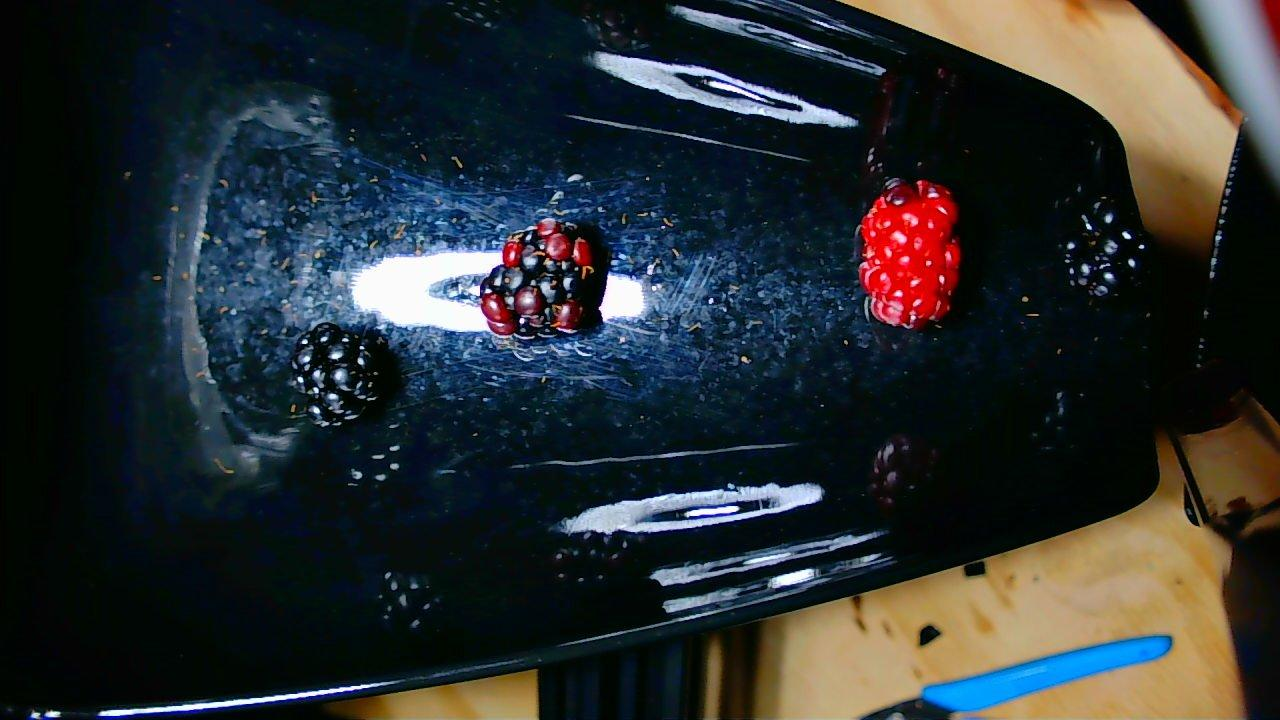berry: (858, 179, 961, 329), (479, 218, 606, 338), (290, 323, 390, 425), (1062, 196, 1149, 299)
